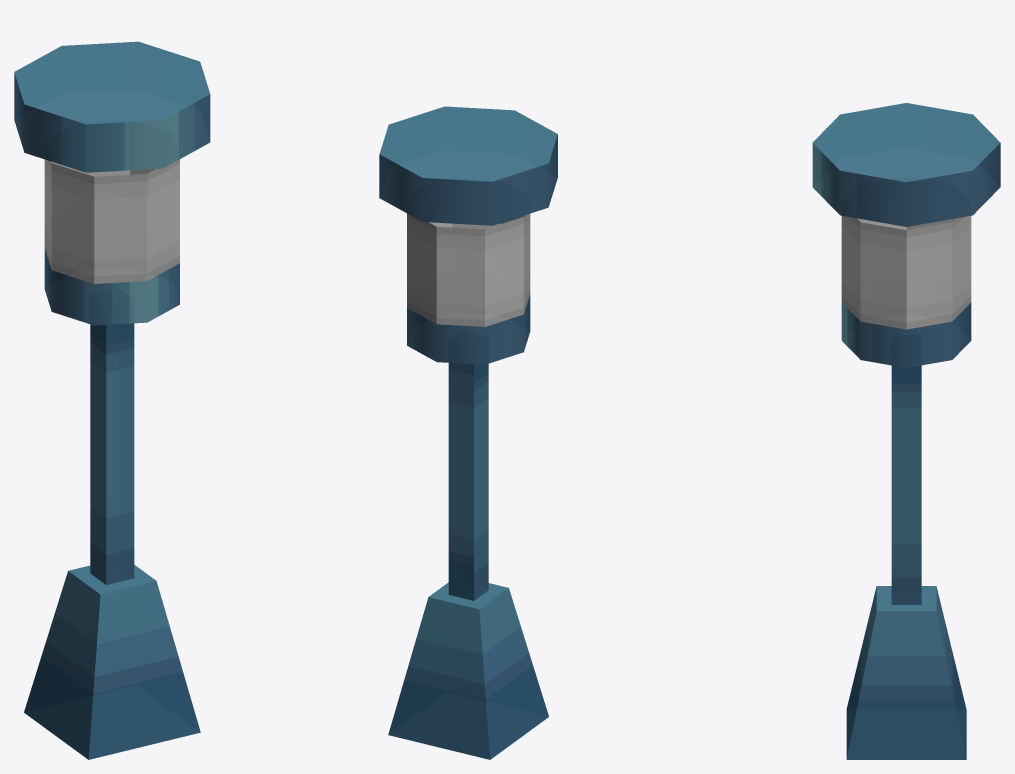
File: lamp.glb
3 views of the same model, side by side, from view 1: azimuth 30°, elevation 25°; view 2: azimuth 150°, elevation 25°; view 3: azimuth 270°, elevation 25° (orthographic). The views are drawn at different scales.
Parts seen in each view (by area): view 1: Goldenrod City Station; view 2: Goldenrod City Station; view 3: Goldenrod City Station.
Part boxes in pixels (x1,y1,x2,y2): Goldenrod City Station: [14, 41, 210, 759]; Goldenrod City Station: [379, 106, 557, 759]; Goldenrod City Station: [812, 103, 1000, 759].
Size of the model in its own units: 19.2 by 48.57 by 19.08.
3 materials, 3 textured.
